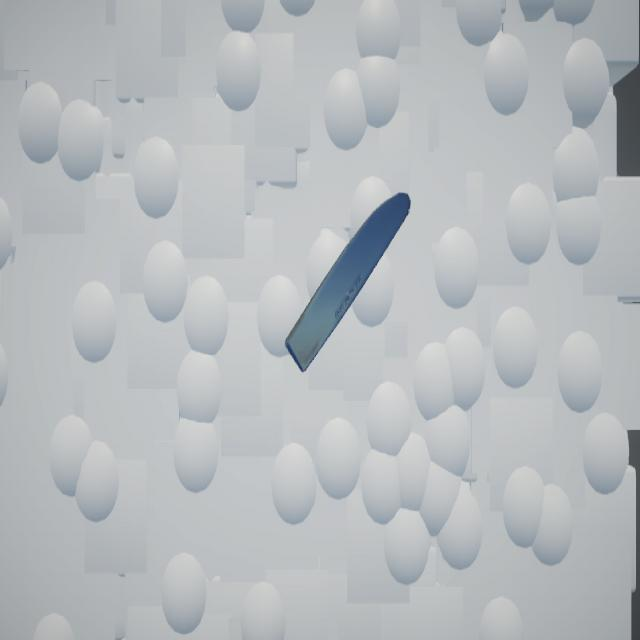top_knife: (286, 193, 412, 374)
